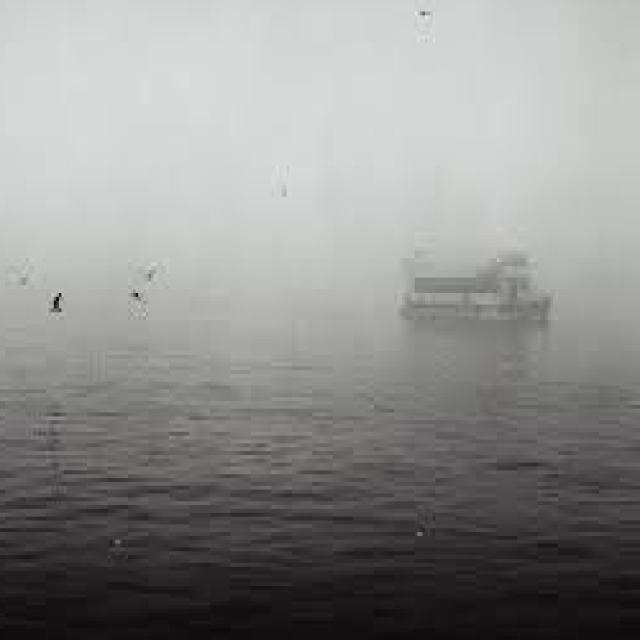fishing boat: (372, 203, 562, 343)
